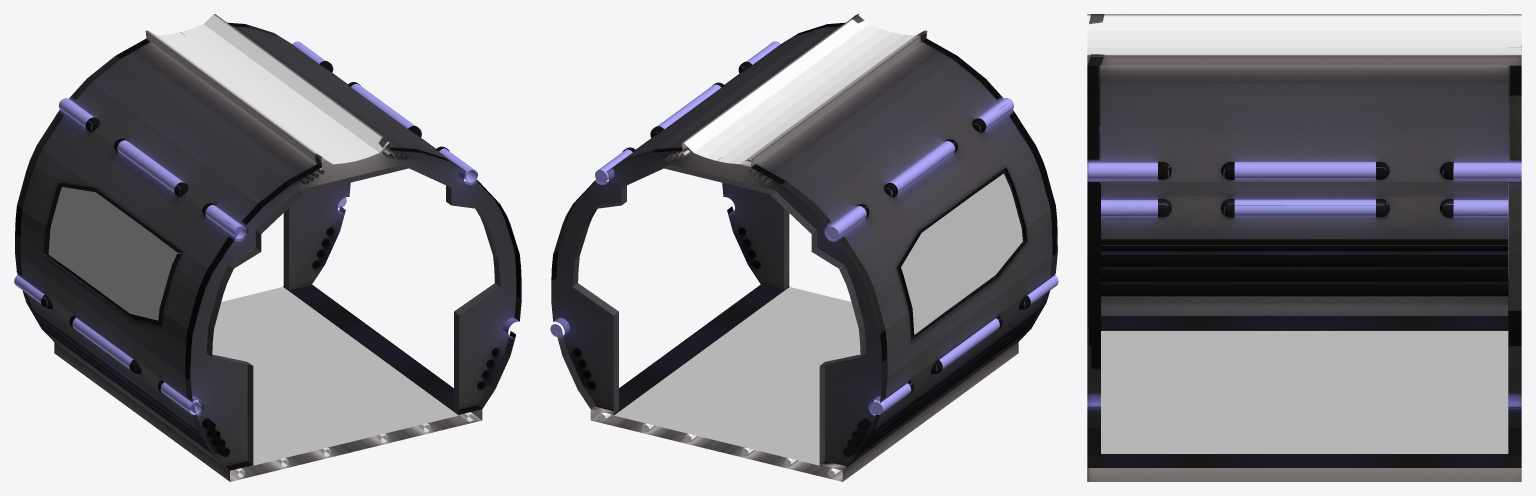
File: Modulo_corridoio_SX.fbx
3 views of the same model, side by side, from view 1: azimuth 30°, elevation 25°; view 2: azimuth 150°, elevation 25°; view 3: azimuth 270°, elevation 25° (orthographic). The views are drawn at different scales.
Parts seen in each view (by area): view 1: Corridoio_001, Pavimento_001, Vetri; view 2: Corridoio_001, Pavimento_001, Vetri; view 3: Corridoio_001, Pavimento_001.
Boxes of the visible parts, bbox=[...] form: Corridoio_001: bbox=[14, 14, 521, 481]; Pavimento_001: bbox=[196, 287, 458, 465]; Vetri: bbox=[48, 187, 177, 320]; Corridoio_001: bbox=[550, 14, 1058, 481]; Pavimento_001: bbox=[614, 287, 876, 465]; Vetri: bbox=[901, 173, 1022, 334]; Corridoio_001: bbox=[1087, 14, 1521, 481]; Pavimento_001: bbox=[1101, 331, 1508, 453].
Bounding box in the file's own units: 7.08 × 6.1 × 6.47.
